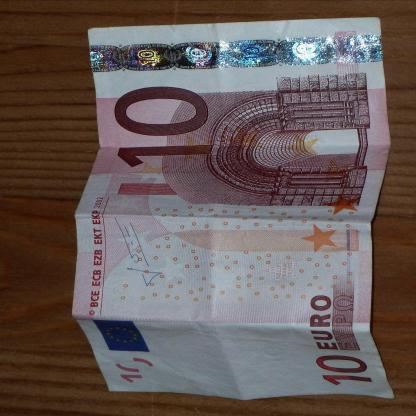euro_banknote: (41, 51, 416, 377)
